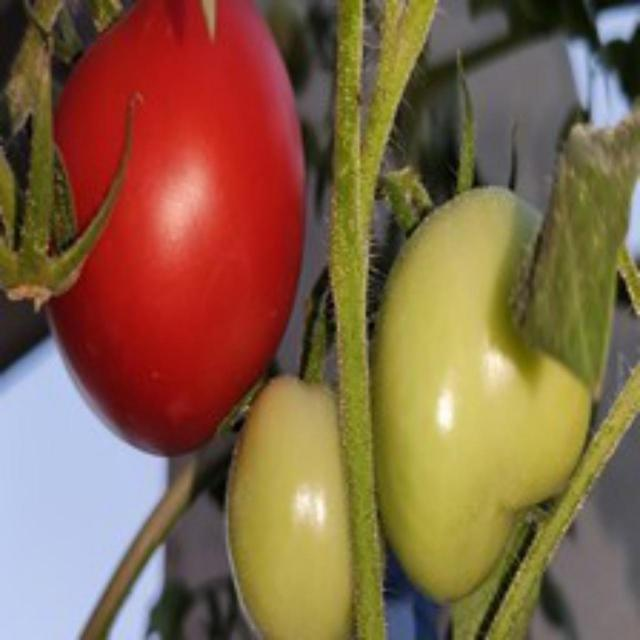tomato: (47, 0, 318, 462)
